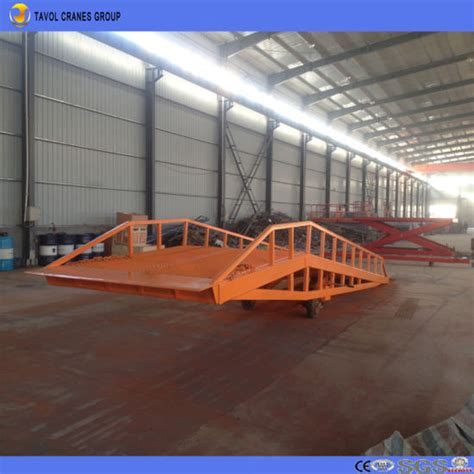Scissor Lift: (310, 213, 471, 268)
Yard Ramp: (25, 217, 390, 306)
